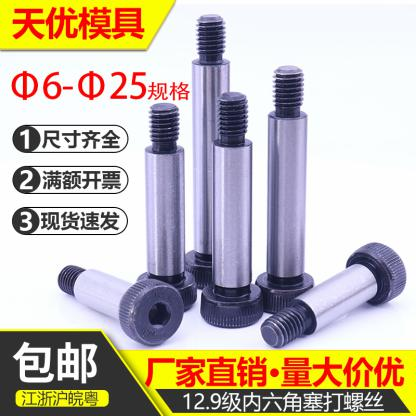FOD: (252, 57, 316, 315), (259, 240, 407, 347), (198, 92, 262, 331), (185, 11, 239, 294), (134, 99, 198, 315), (57, 264, 184, 348)
